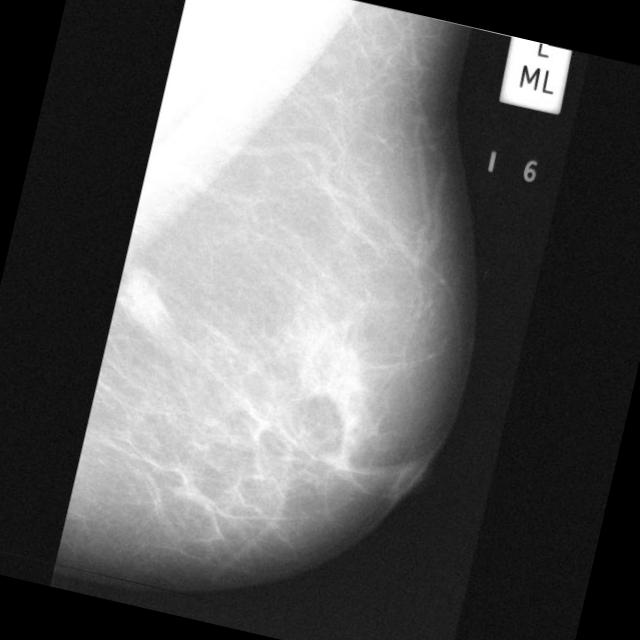MISC: (102, 257, 186, 341)
